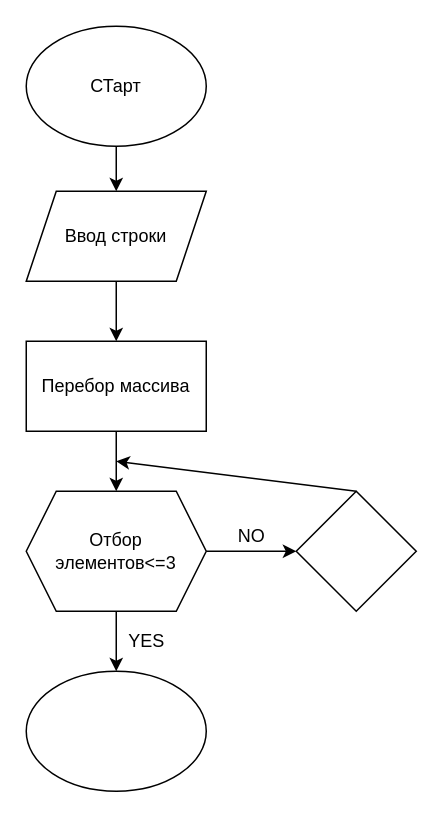
Image size: 443x818. Some labels were removed from this diagram. Here are the shapes that lost their labels. From the top down, the box of each, then its label:
(295, 490, 416, 611): Следующая переменная
(25, 670, 206, 791): Print
